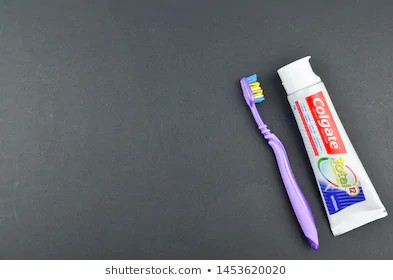colgate-total-150gm: (276, 49, 380, 229)
toothbrush: (232, 68, 282, 155)
